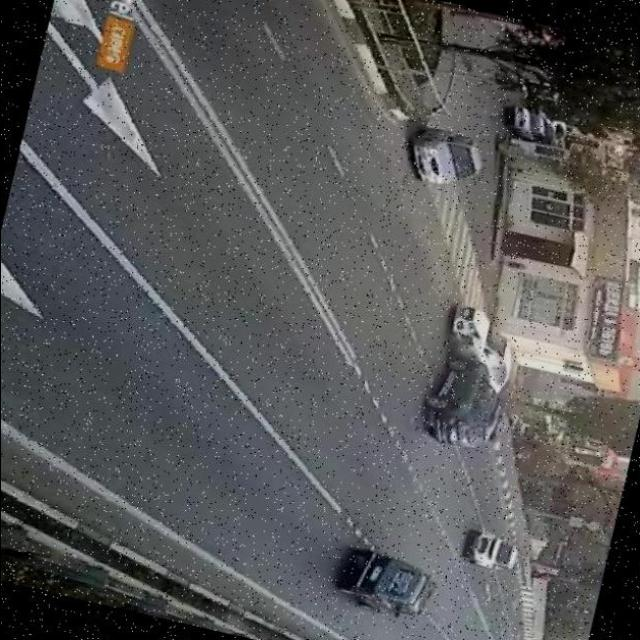accident: (439, 315, 516, 405)
